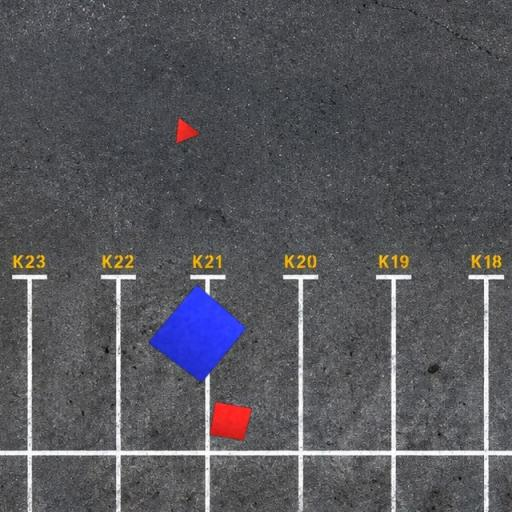BLUE_SQUARE: (147, 284, 247, 383)
RED_SQUARE: (209, 401, 252, 441)
